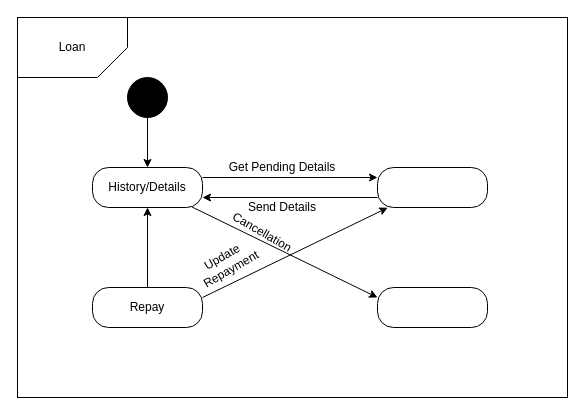
The diagram is 585 pixels wide and 415 high, and some of its shapes have lost their labels. The shapes that lost their labels are listed below. From the top down, each one's centre as x and y in pixels, then its label:
At pixel 432 187: "Pending".
At pixel 432 307: "Cancel".
